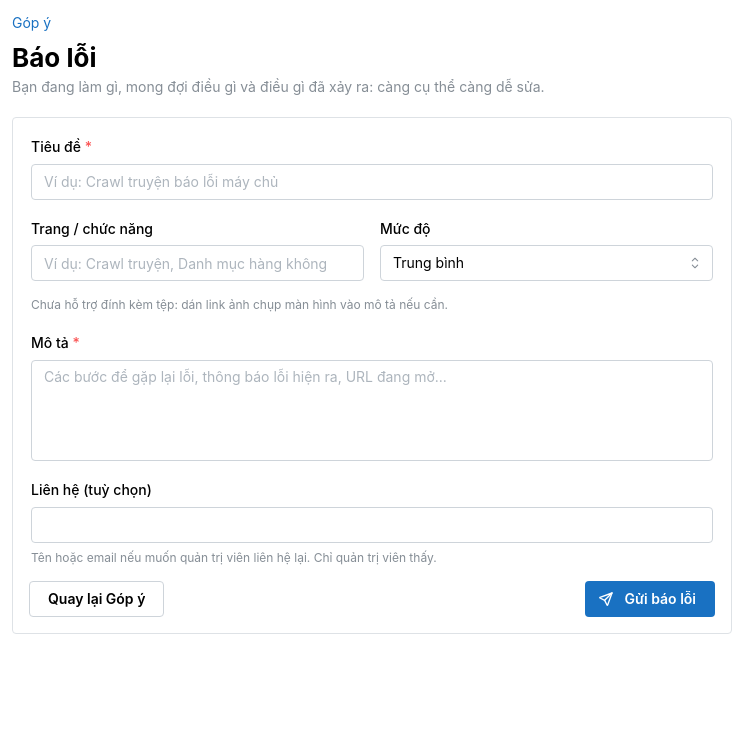
Test: BugReportPage › hiện lỗi của máy chủ và giữ nguyên những gì đã nhập
The image size is (749, 753).
Type "Lỗi khi crawl truyện" into the field labelled "Tiêu đề *" at (372,182), box [31,164,713,200]
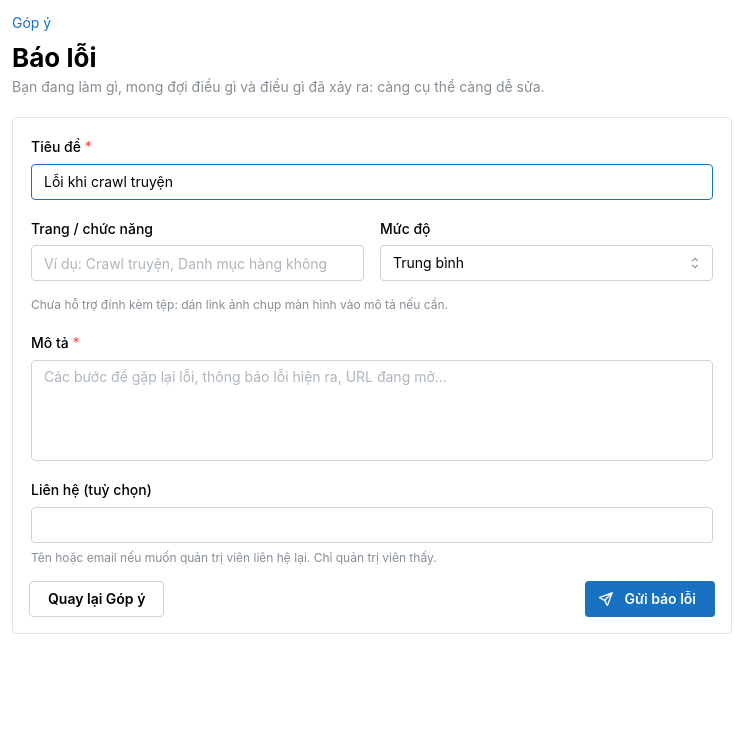
Type "Bấm Bắt đầu crawl thì báo lỗi máy chủ." into the text box labelled "Mô tả *" at (372,410), box [31,360,713,461]
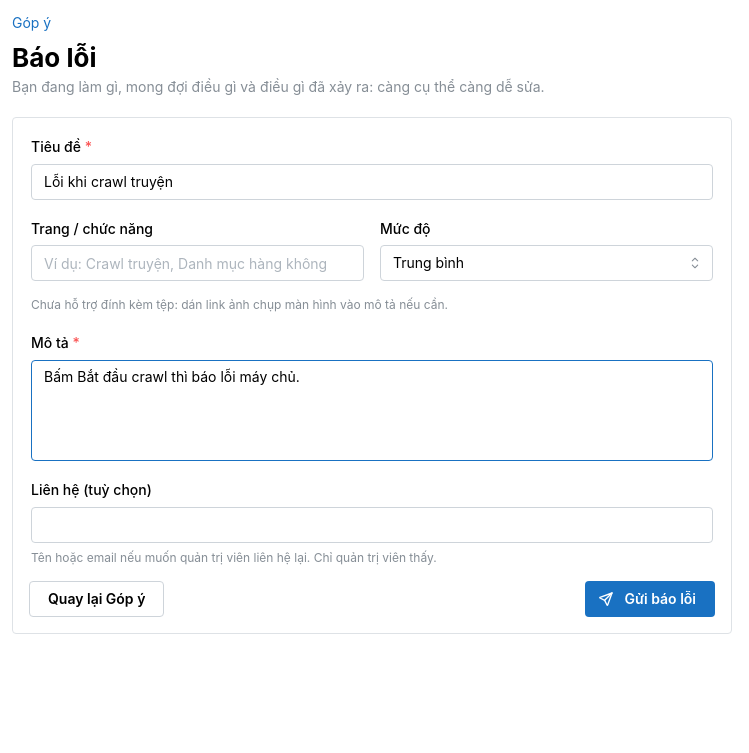
Click the button "Gửi báo lỗi" at (650,599), box [586,581,715,617]
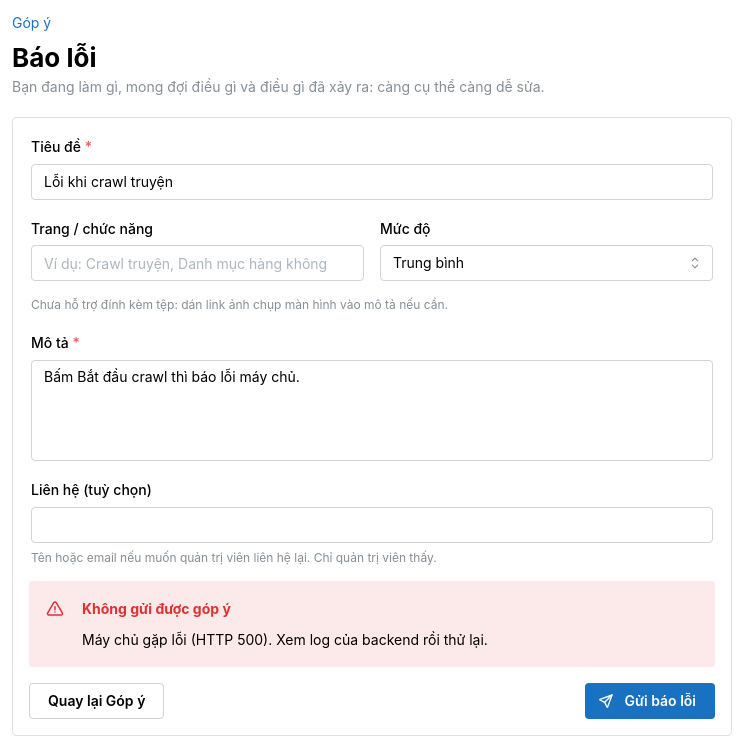
Check: the text "Không gửi được góp ý" is shown, box [82,598,231,620]
